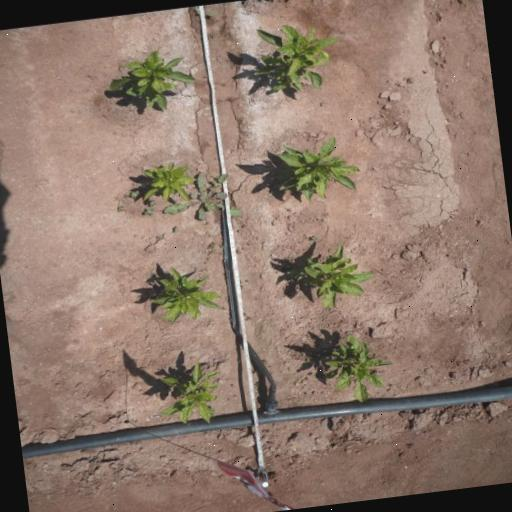plant: (242, 14, 352, 99), (102, 42, 201, 120), (268, 130, 366, 206), (284, 242, 378, 309), (318, 328, 400, 404), (148, 357, 226, 424), (149, 265, 227, 327), (142, 160, 196, 203)
weed: (164, 169, 243, 223), (193, 4, 217, 18), (123, 190, 143, 202), (204, 239, 218, 255), (146, 270, 160, 284), (142, 206, 155, 216), (148, 198, 159, 208), (310, 232, 320, 242), (116, 204, 126, 213), (171, 224, 180, 232)
